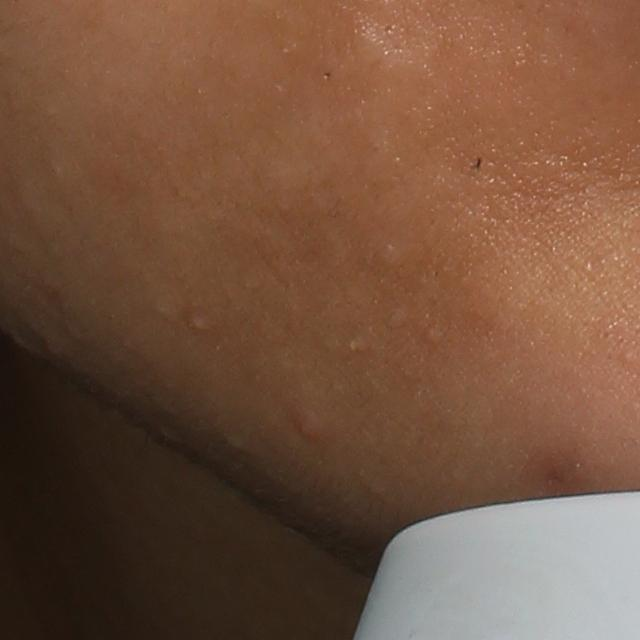comedo: (420, 323, 449, 343)
hypertrophic_scar: (351, 23, 454, 90)
papule: (288, 413, 324, 444)
